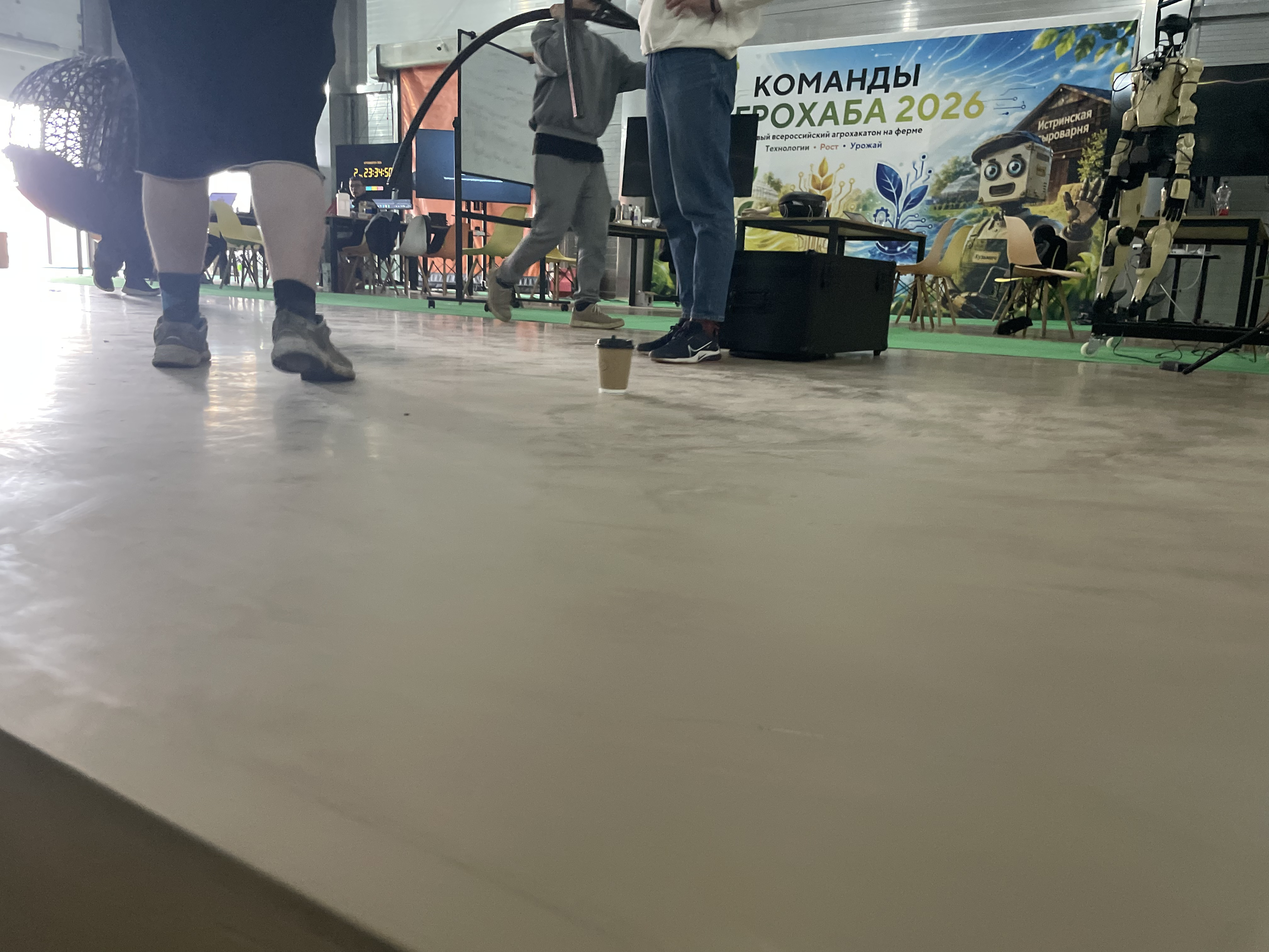cup: (594, 335, 634, 394)
